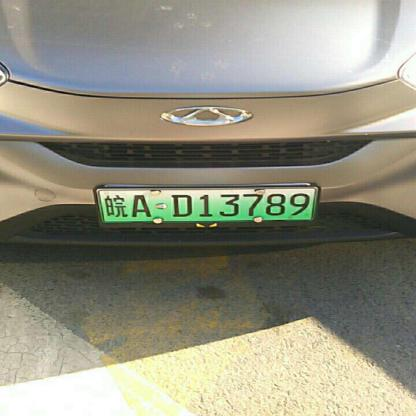lp: (98, 189, 316, 221)
